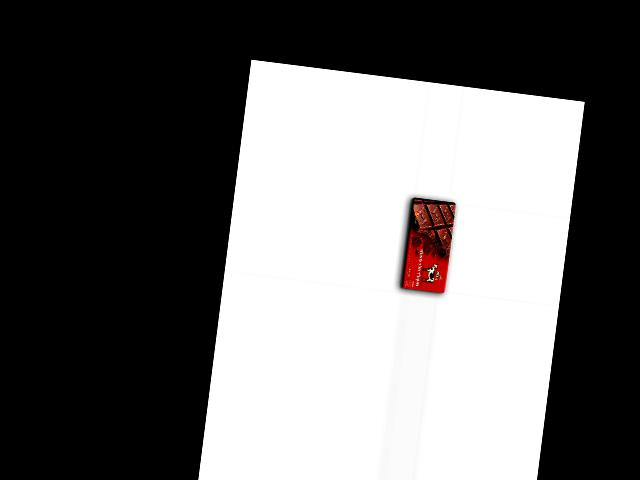chocolate: (397, 195, 458, 296)
